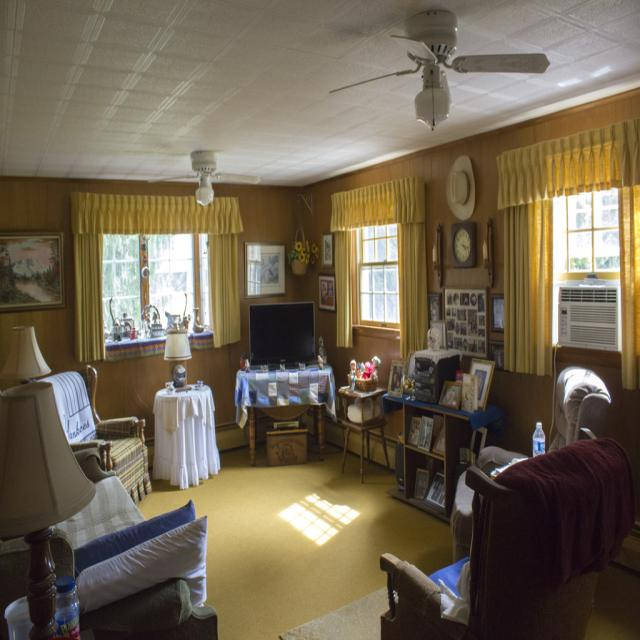Bulb: (328, 9, 549, 131), (147, 150, 260, 213)
